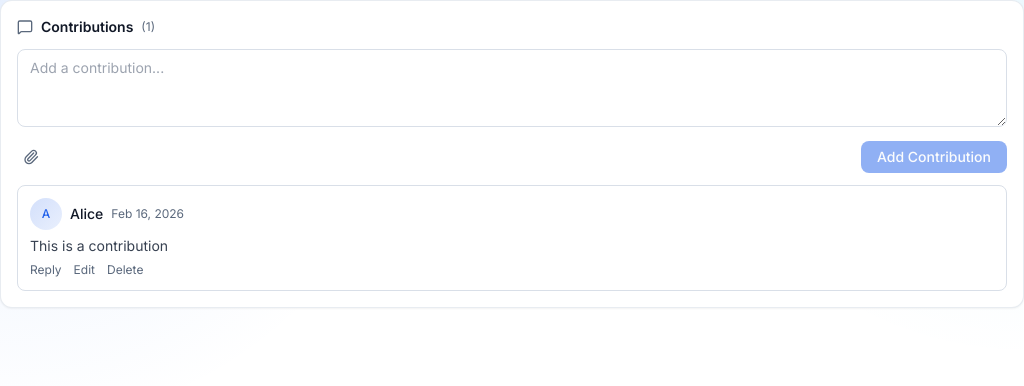
Test: CommentSection › Should_ShowDeleteConfirmation_WhenDeleteClicked
Expected: the text "This is a contribution" is shown, [30, 237, 168, 254]
Click the button "Delete" at coordinates (125, 270), box [107, 262, 143, 278]
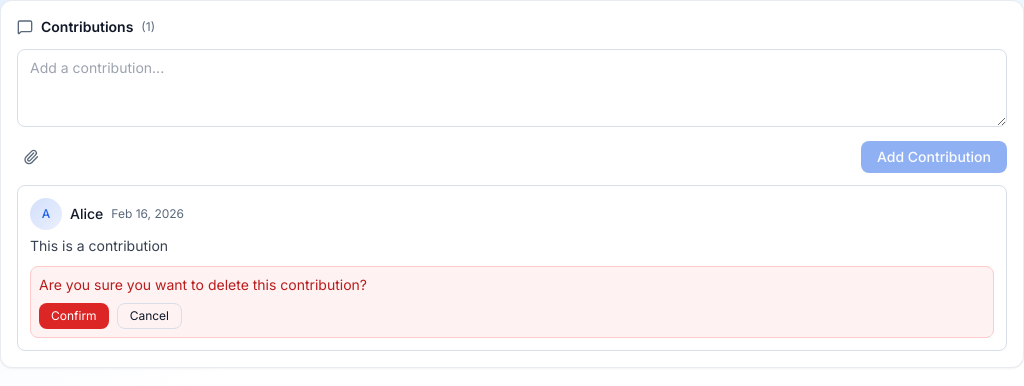
Result: the text "Are you sure you want to delete this contribution?" is shown at [39, 276, 367, 293]
